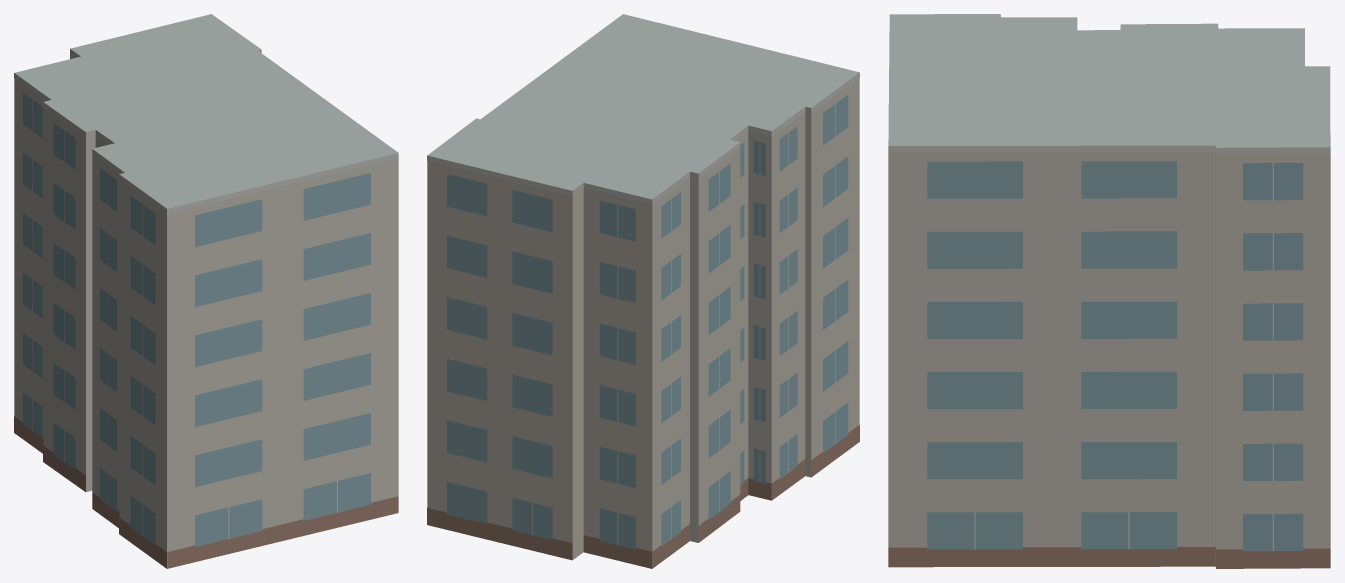
File: survey-upis-32946612.glb
3 views of the same model, side by side, from view 1: azimuth 30°, elevation 25°; view 2: azimuth 150°, elevation 25°; view 3: azimuth 270°, elevation 25° (orthographic). The views are drawn at different scales.
Parts seen in each view (by area): view 1: survey-upis-32946612.tmp; view 2: survey-upis-32946612.tmp; view 3: survey-upis-32946612.tmp.
Part boxes in pixels (bbox=[...]): survey-upis-32946612.tmp: bbox=[14, 14, 398, 568]; survey-upis-32946612.tmp: bbox=[427, 14, 859, 568]; survey-upis-32946612.tmp: bbox=[888, 14, 1330, 568].
Size of the model in its own units: 11.53 by 16.9 by 16.1.
